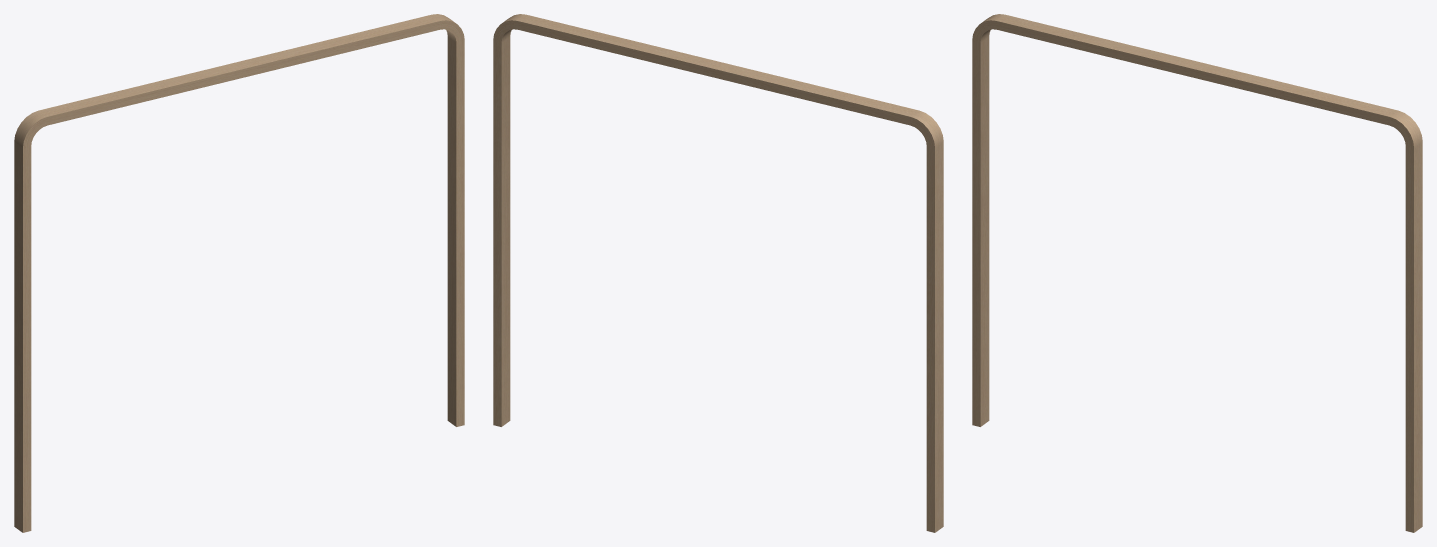
Rendered from D_VDU_003_x3_Deco.fbx.
3 views of the same model, side by side, from view 1: azimuth 30°, elevation 25°; view 2: azimuth 150°, elevation 25°; view 3: azimuth 330°, elevation 25° (orthographic).
Visible parts, largest first — view 1: D_VDU_003_x3_Deco; view 2: D_VDU_003_x3_Deco; view 3: D_VDU_003_x3_Deco.
Part boxes in pixels (left/top/right/bottom): D_VDU_003_x3_Deco: left=14, top=14, right=464, bottom=532; D_VDU_003_x3_Deco: left=493, top=14, right=943, bottom=532; D_VDU_003_x3_Deco: left=972, top=14, right=1422, bottom=532.
Size of the model in its own units: 5.3 by 4.7 by 0.18.
